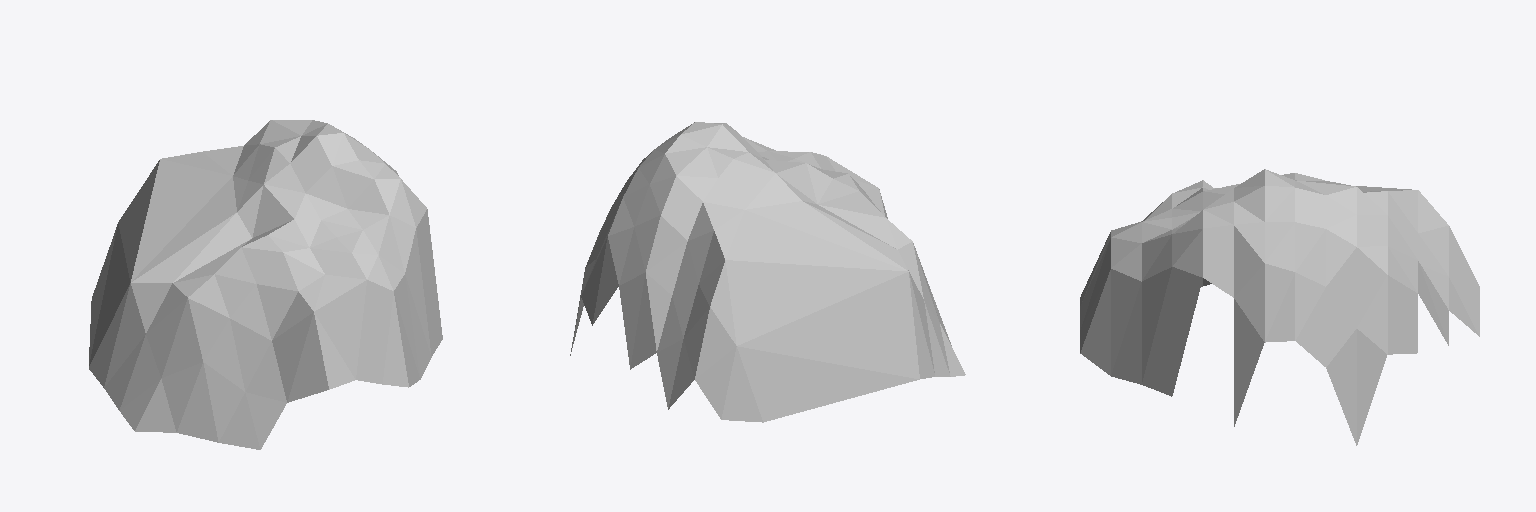
File: tree_16.obj
The picture shows the model from 3 angles: view 1: azimuth 30°, elevation 25°; view 2: azimuth 150°, elevation 25°; view 3: azimuth 270°, elevation 25°; orthographic projection.
Parts seen in each view (by area): view 1: tree_16.001; view 2: tree_16.001; view 3: tree_16.001.
Boxes of the visible parts, box(x1,y1,x2,y2) form: tree_16.001: box(89, 120, 442, 449); tree_16.001: box(570, 122, 965, 422); tree_16.001: box(1080, 169, 1479, 445).
Bounding box in the file's own units: 12 × 8.11 × 13.